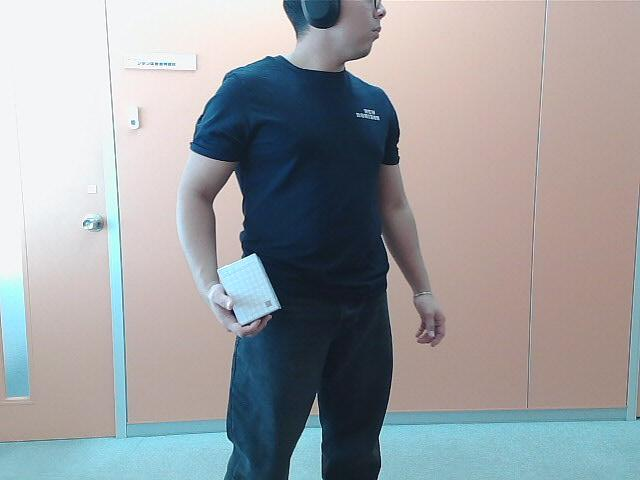Blind_box: (216, 253, 282, 333)
